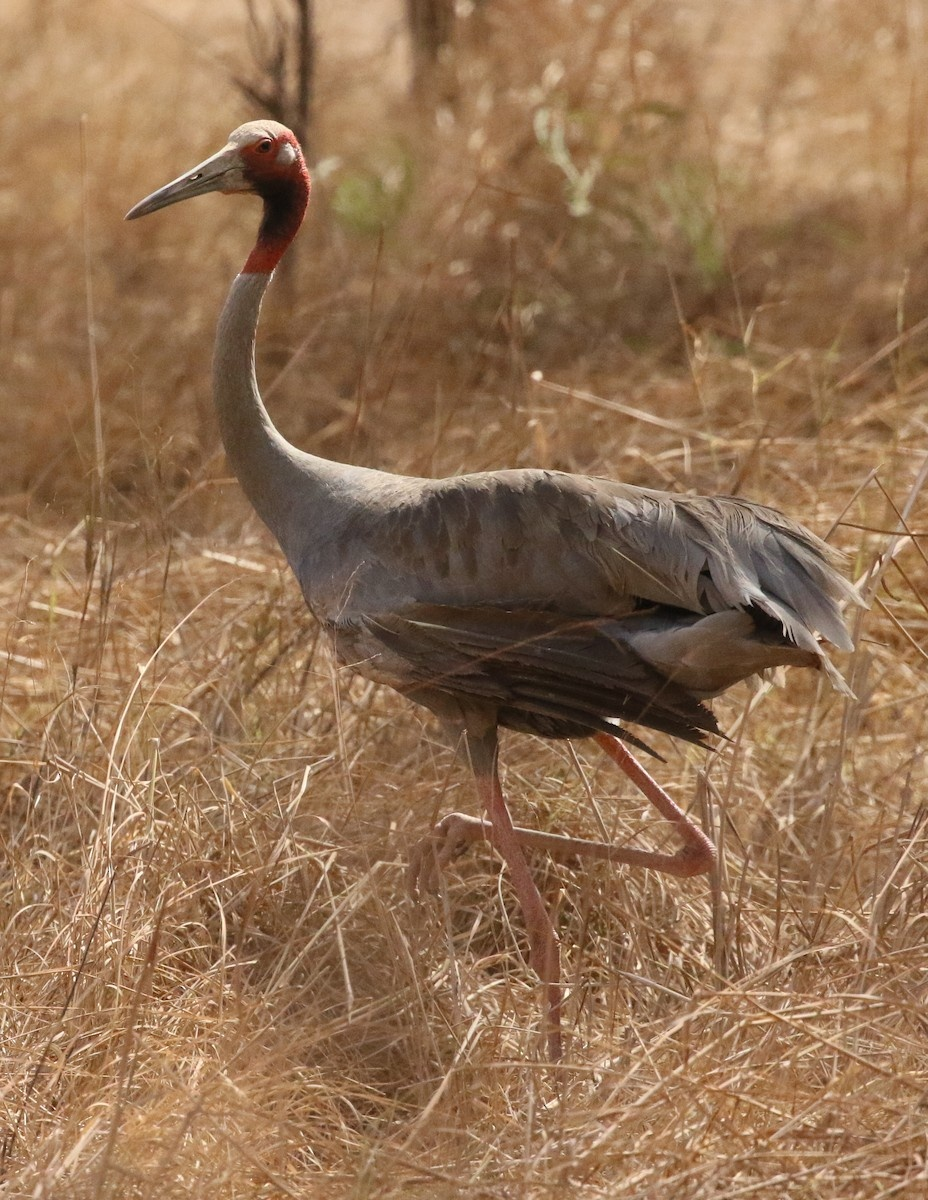crane: (124, 101, 856, 1071)
